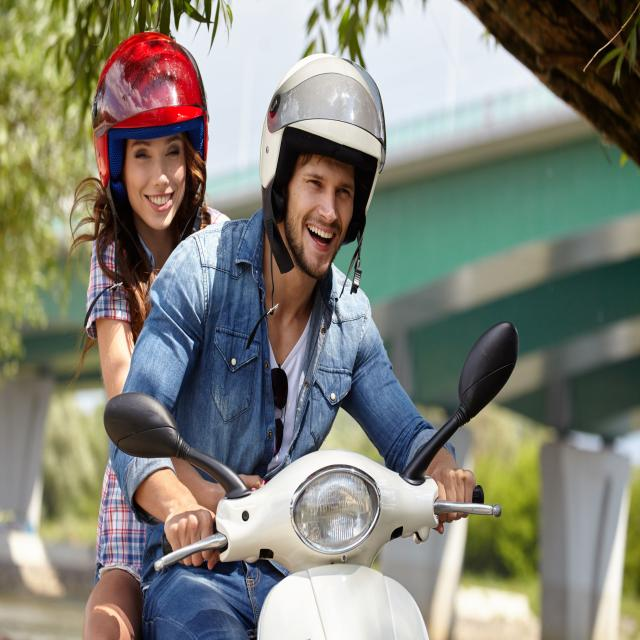helmet: (86, 26, 212, 231)
illegal_helmet: (242, 49, 392, 354)
